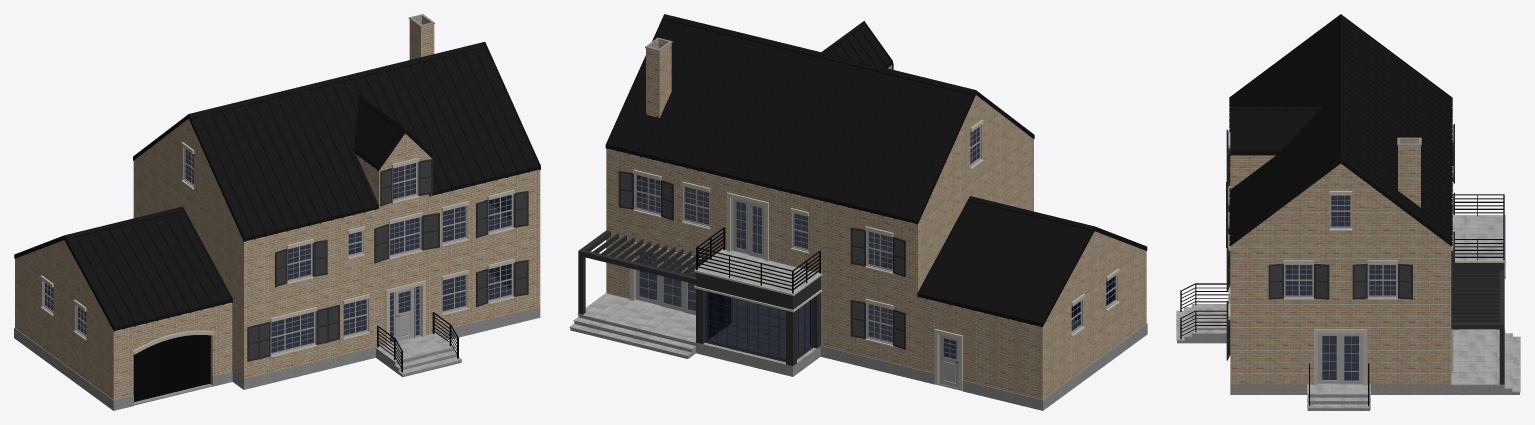
Rendered from Modern Brick House_1_fbx.FBX.
The picture shows the model from 3 angles, left to right: view 1: azimuth 30°, elevation 25°; view 2: azimuth 150°, elevation 25°; view 3: azimuth 270°, elevation 25°; orthographic projection. The views are drawn at different scales.
Visible parts, largest first — view 1: MBH1OBJ_01, MBH1OBJ_05, MBH1OBJ_02, MBH1OBJ_03, MBH1OBJ_06, MBH1OBJ_04; view 2: MBH1OBJ_01, MBH1OBJ_05, MBH1OBJ_02, MBH1OBJ_03, MBH1OBJ_04, MBH1OBJ_06, MBH1OBJ_07; view 3: MBH1OBJ_05, MBH1OBJ_01, MBH1OBJ_04, MBH1OBJ_02, MBH1OBJ_03, MBH1OBJ_06, MBH1OBJ_07.
Part boxes in pixels (<box>): MBH1OBJ_01: <box>14,42,540,331</box>; MBH1OBJ_05: <box>15,14,540,399</box>; MBH1OBJ_02: <box>40,142,528,361</box>; MBH1OBJ_03: <box>14,164,540,410</box>; MBH1OBJ_06: <box>132,269,492,401</box>; MBH1OBJ_04: <box>375,312,462,377</box>; MBH1OBJ_01: <box>605,14,1147,327</box>; MBH1OBJ_05: <box>606,37,1146,399</box>; MBH1OBJ_02: <box>618,63,1119,362</box>; MBH1OBJ_03: <box>635,128,1147,410</box>; MBH1OBJ_04: <box>569,230,707,358</box>; MBH1OBJ_06: <box>629,192,1113,390</box>; MBH1OBJ_07: <box>696,227,820,293</box>; MBH1OBJ_05: <box>1230,137,1505,384</box>; MBH1OBJ_01: <box>1229,14,1452,246</box>; MBH1OBJ_04: <box>1176,270,1520,410</box>; MBH1OBJ_02: <box>1226,123,1454,360</box>; MBH1OBJ_03: <box>1230,196,1496,394</box>; MBH1OBJ_06: <box>1228,181,1453,385</box>; MBH1OBJ_07: <box>1453,194,1504,260</box>.
Bounding box in the file's own units: 820 × 542 × 416.
9 materials, 4 textured.
